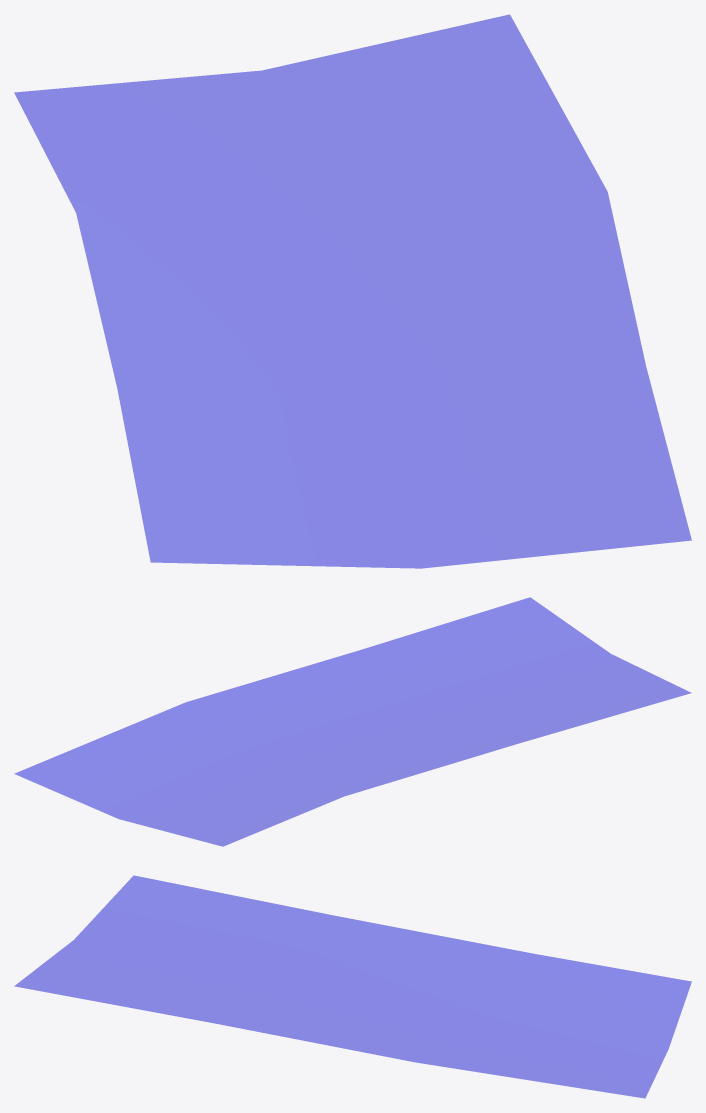
The model's file is track_la_coll_road_48.fbx.
The picture shows the model from 3 angles, top to bottom: view 1: azimuth 30°, elevation 25°; view 2: azimuth 150°, elevation 25°; view 3: azimuth 270°, elevation 25°; orthographic projection. The views are drawn at different scales.
Visible parts, largest first — view 1: track_la_coll_road_48; view 2: track_la_coll_road_48; view 3: track_la_coll_road_48.
Boxes of the visible parts, x1,y1,x2,y2 form: track_la_coll_road_48: (14, 14, 691, 568); track_la_coll_road_48: (14, 597, 690, 846); track_la_coll_road_48: (15, 875, 691, 1098).
Bounding box in the file's own units: 39.37 × 1.21 × 51.78.
